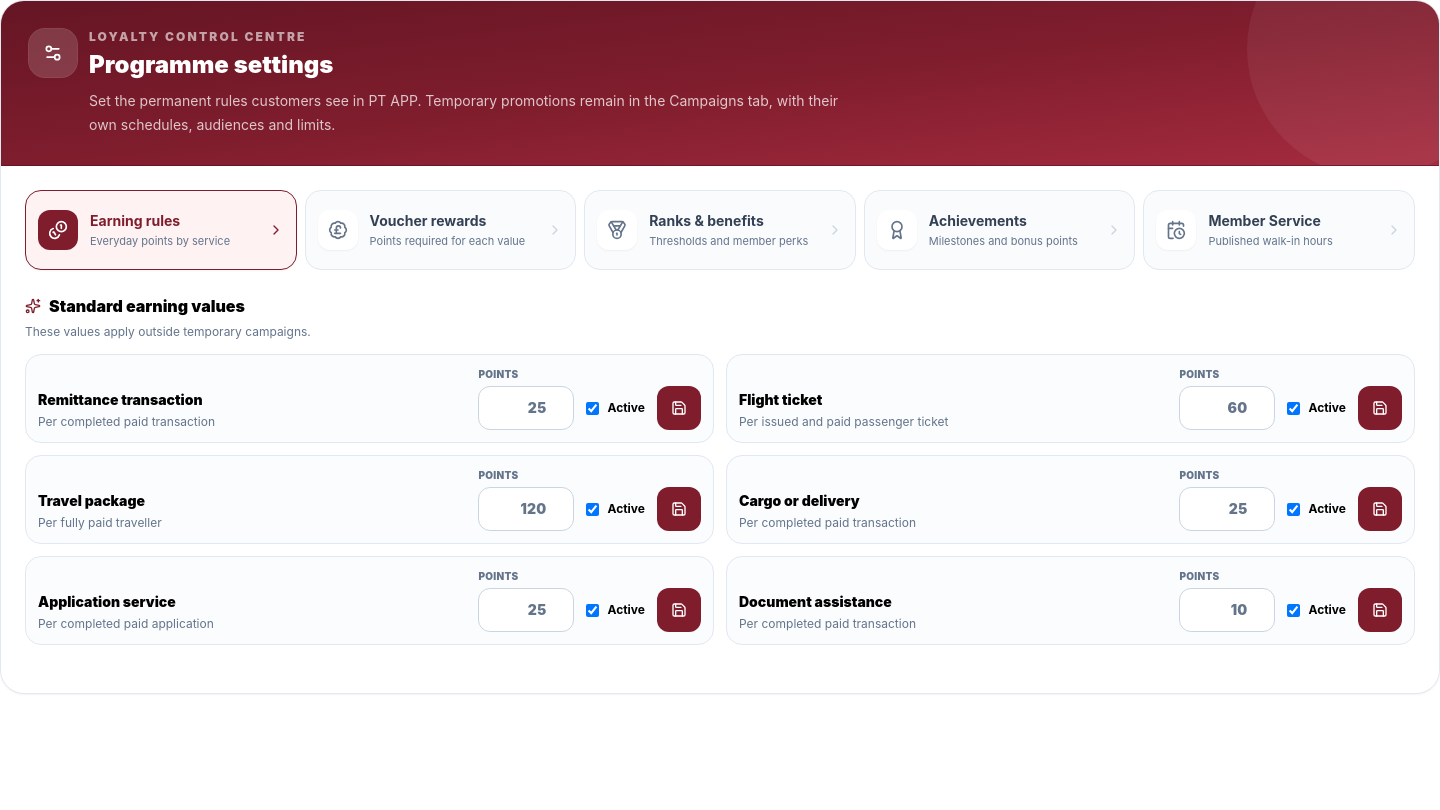
Test case: loyalty programme settings › separates permanent rules into concise setting categories
Expected: the navigation bar named "Loyalty setting categories" is shown, [25,190,1415,270]
Expected: the heading "Standard earning values" is shown, [25,296,245,316]
Click the button "Member Service Published walk-in hours".
click(1279, 230)  # box [1143,190,1415,270]
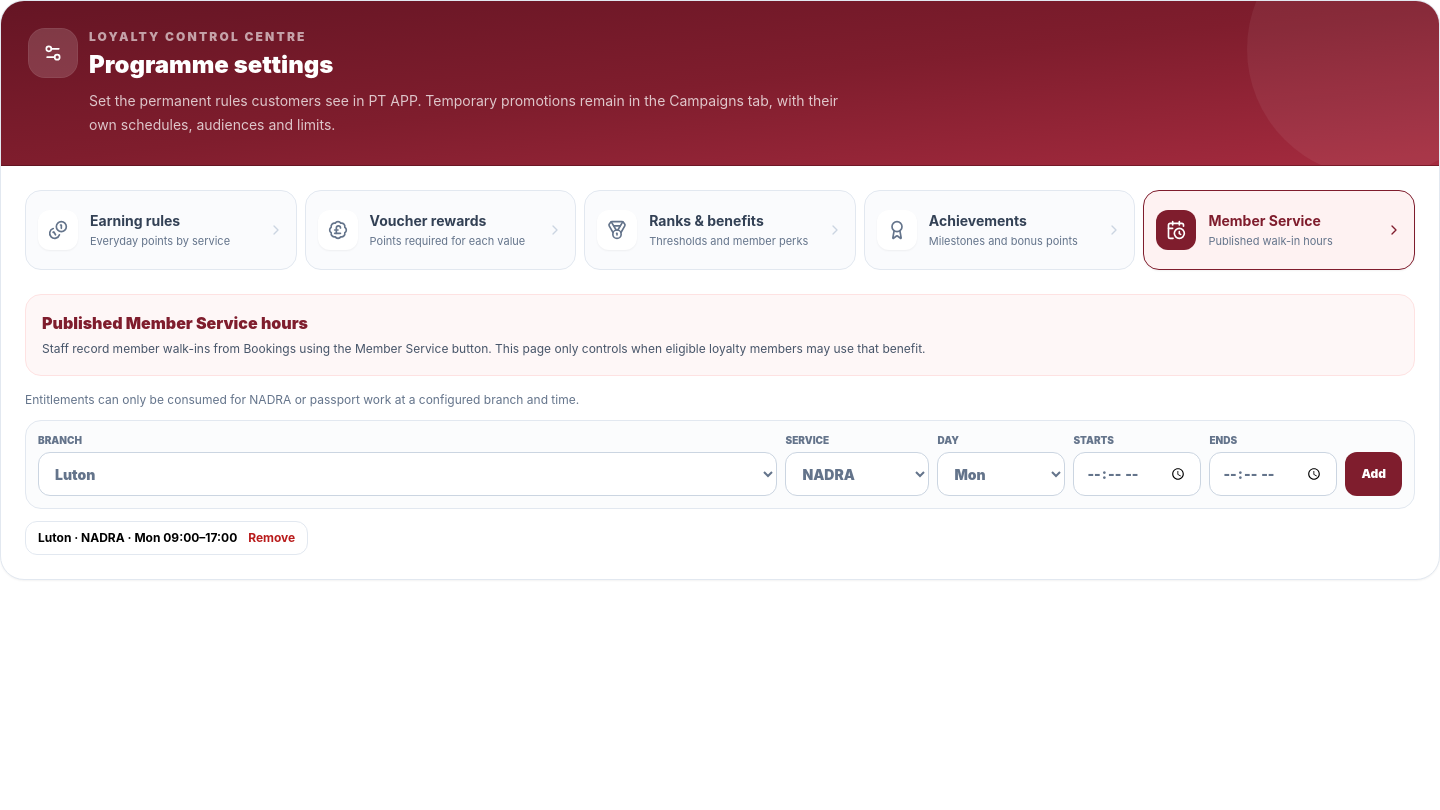
Expected: the heading "Published Member Service hours" is shown, [42,313,308,333]
Expected: the text "record member walk-ins from Bookings" is shown, [42,341,926,356]
